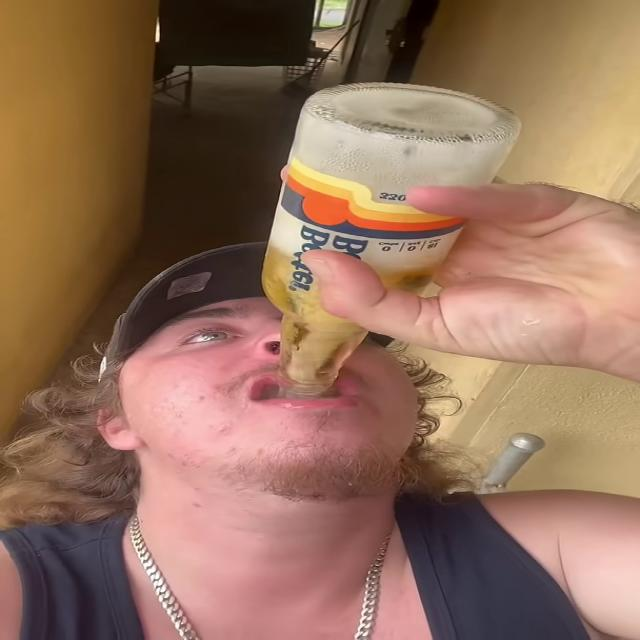Bottle: (263, 84, 523, 393)
Hand: (249, 155, 640, 378)
Mouth: (218, 363, 373, 411)
